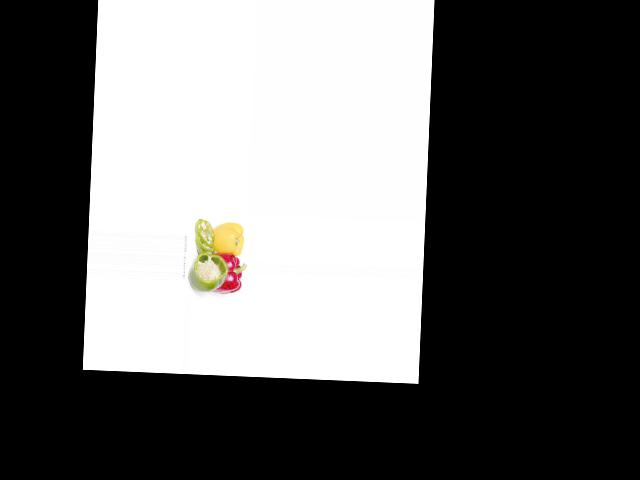bell_pepper: (190, 251, 229, 296)
